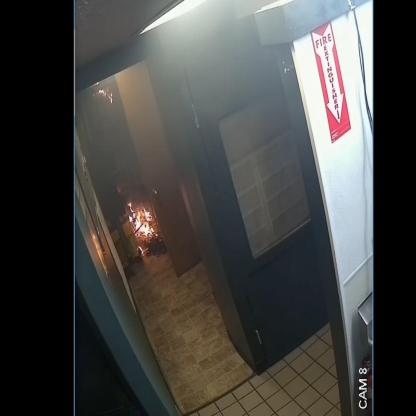fire: (128, 202, 158, 237)
